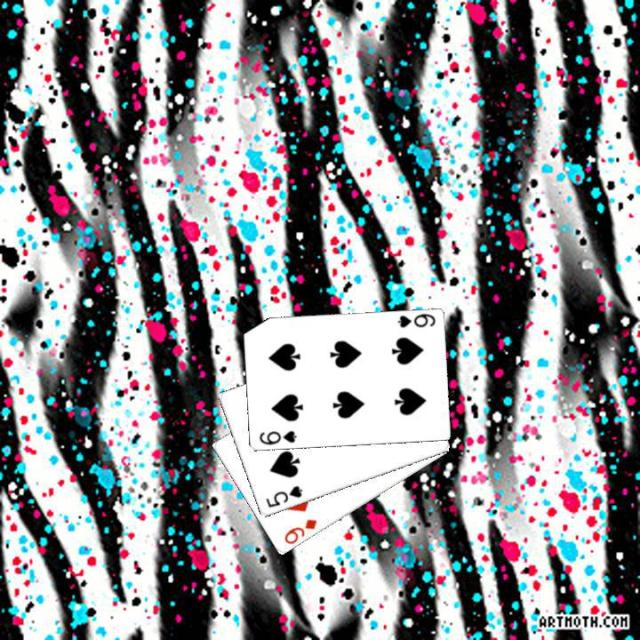5S: (261, 482, 304, 509)
6S: (394, 310, 436, 330), (255, 428, 298, 447)
9D: (280, 516, 318, 546)
